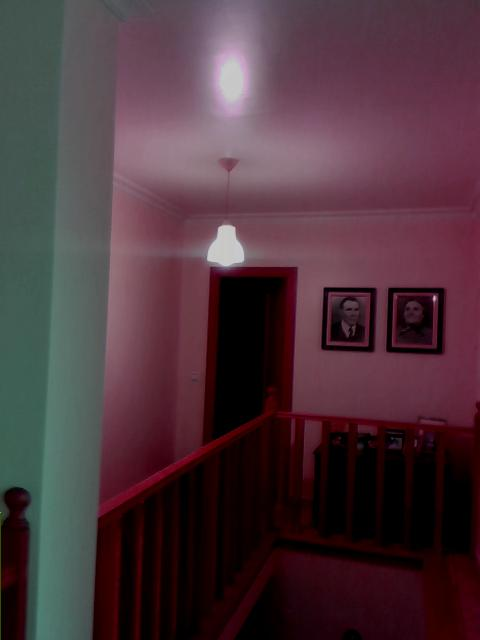semi_door: (201, 266, 298, 562)
